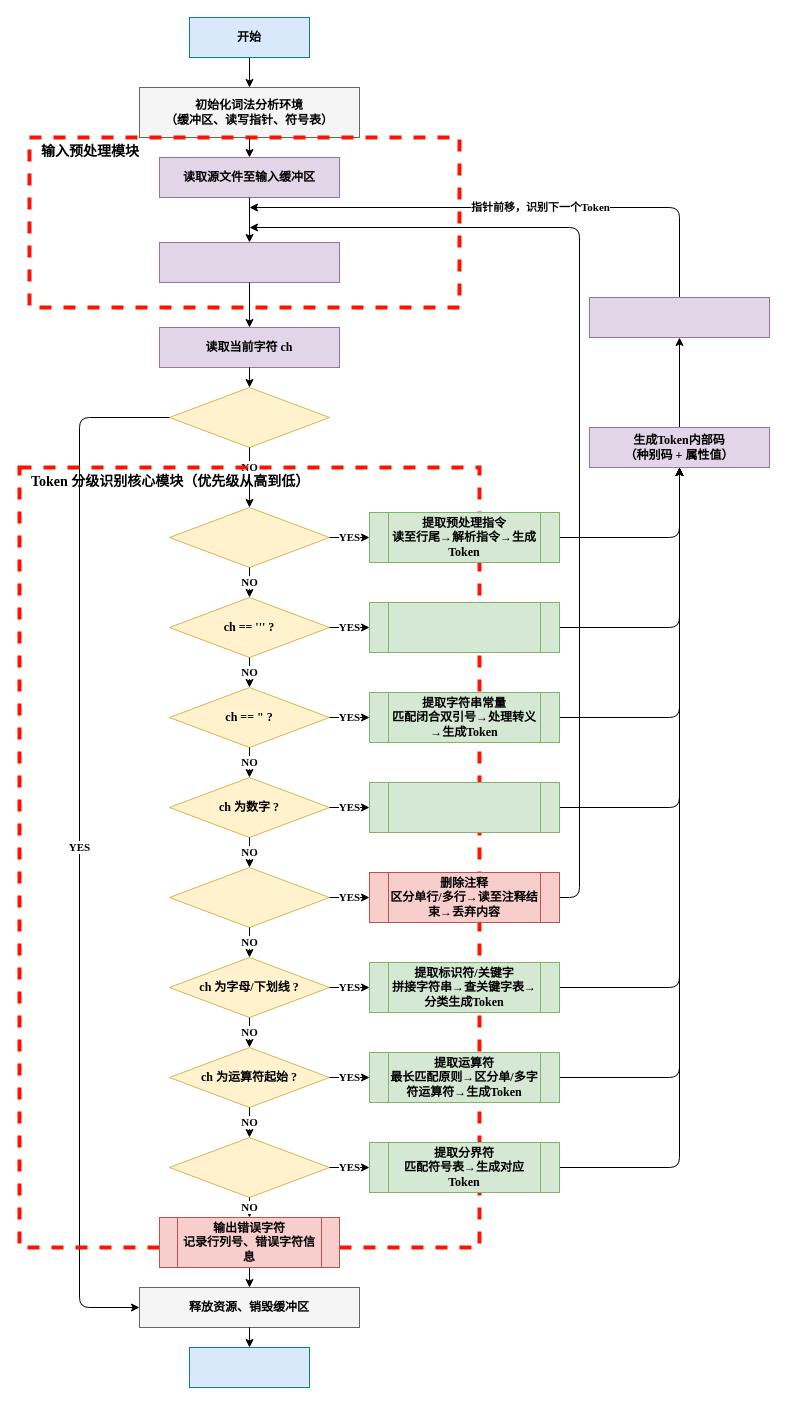
Image size: 787x1405. Some labels were removed from this diagram. The centre of each missing label's shape, as x and y in pixels:
"ch == '#' ?" belongs at pixel 249 537.
"ch == EOF ?" belongs at pixel 249 417.
"ch 为分界符 ?" belongs at pixel 249 1167.
"ch 为注释起始符 ?" belongs at pixel 249 897.
"提取字符常量 匹配闭合单引号→校验转义→生成Token" belongs at pixel 464 627.
"提取数值常量 拼接整数/小数/指数→合法性校验→生成Token" belongs at pixel 464 807.
"程序结束" belongs at pixel 249 1367.
"输出Token序列" belongs at pixel 679 317.
"过滤空白字符 （空格、制表符、换行符）" belongs at pixel 249 262.
